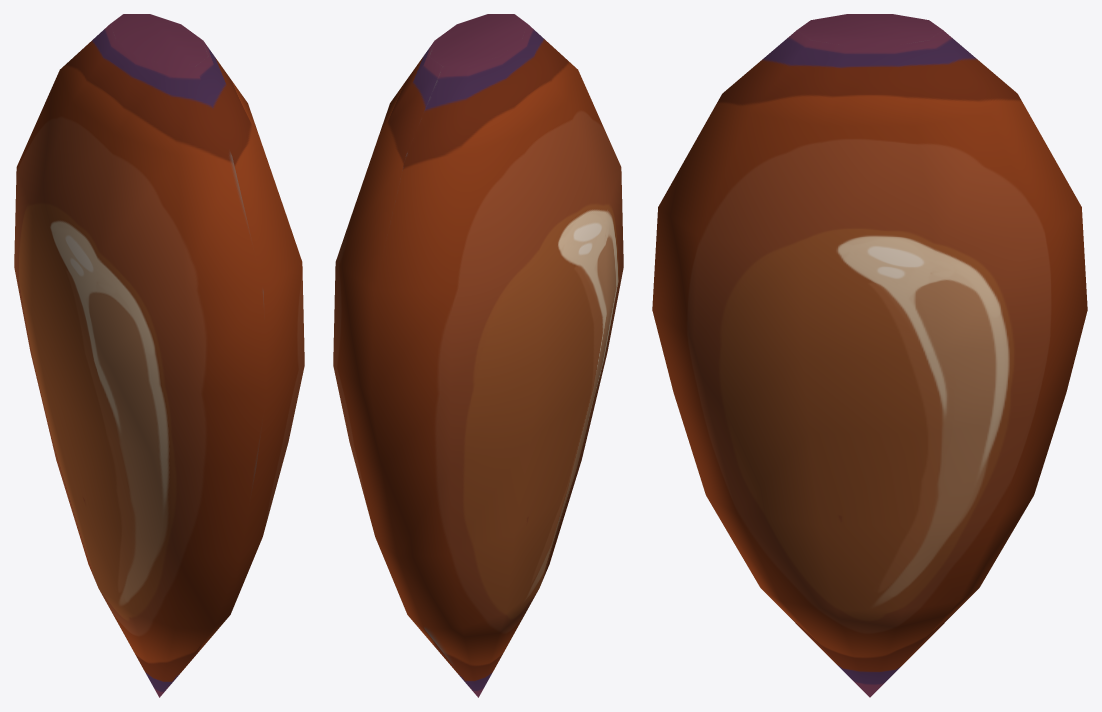
File: Aardbeienemyprojectiles.fbx
3 views of the same model, side by side, from view 1: azimuth 30°, elevation 25°; view 2: azimuth 150°, elevation 25°; view 3: azimuth 270°, elevation 25° (orthographic).
Visible parts, largest first — view 1: Cylinder.003; view 2: Cylinder.003; view 3: Cylinder.003.
Part boxes in pixels (x1,y1,x2,y2): Cylinder.003: (14,14,304,697); Cylinder.003: (333,14,623,697); Cylinder.003: (652,14,1087,697).
Bounding box in the file's own units: 22.28 × 73.85 × 43.64.
